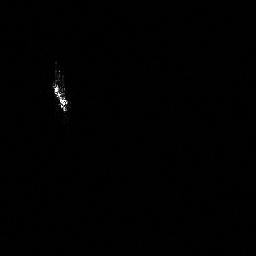ship: (47, 74, 76, 115)
